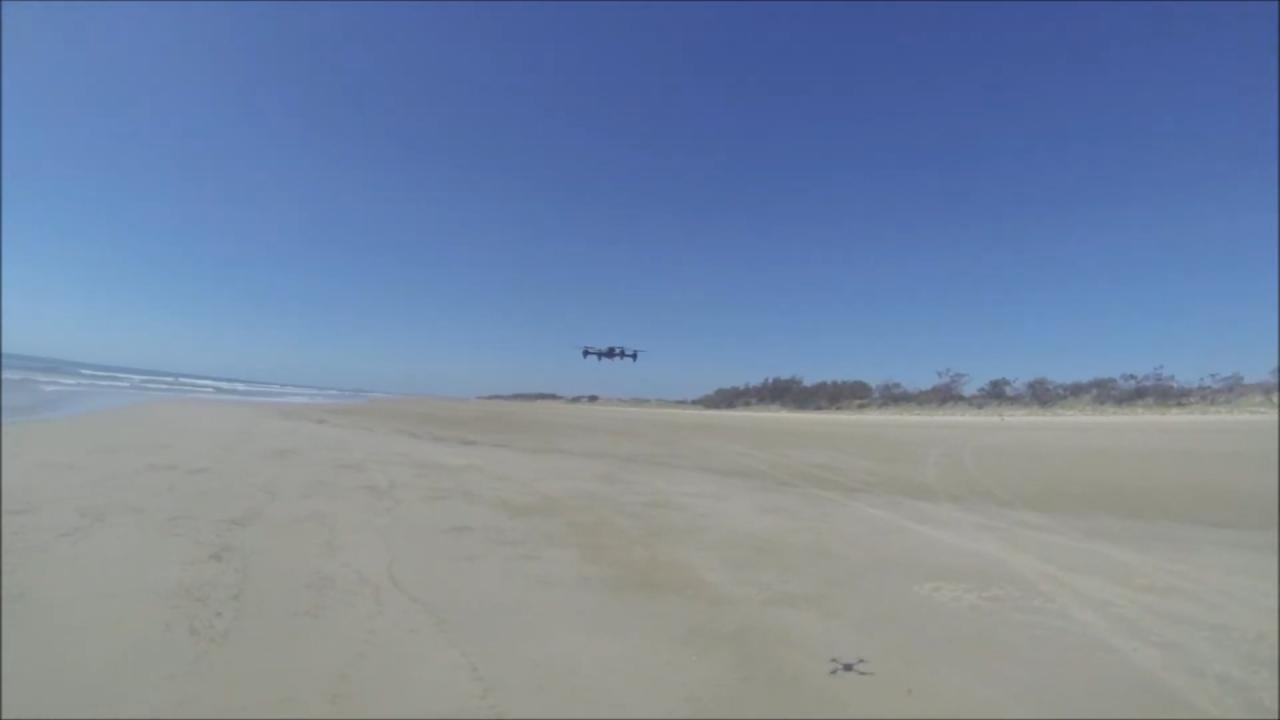Drone: (570, 336, 650, 370)
